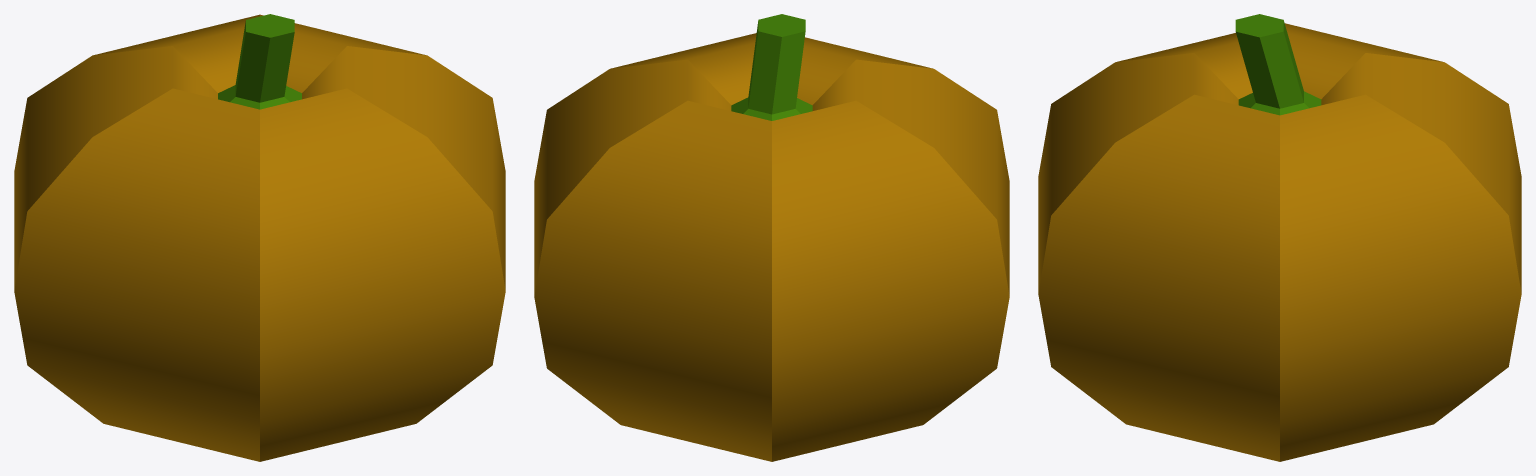
The model's file is SM_Pumpkin.fbx.
3 views of the same model, side by side, from view 1: azimuth 30°, elevation 25°; view 2: azimuth 150°, elevation 25°; view 3: azimuth 270°, elevation 25° (orthographic). The views are drawn at different scales.
Parts seen in each view (by area): view 1: pCylinder3; view 2: pCylinder3; view 3: pCylinder3.
Boxes of the visible parts, x1,y1,x2,y2 form: pCylinder3: [14, 14, 505, 461]; pCylinder3: [534, 14, 1009, 461]; pCylinder3: [1038, 14, 1521, 461].
Size of the model in its own units: 73.35 by 52.39 by 63.52.
